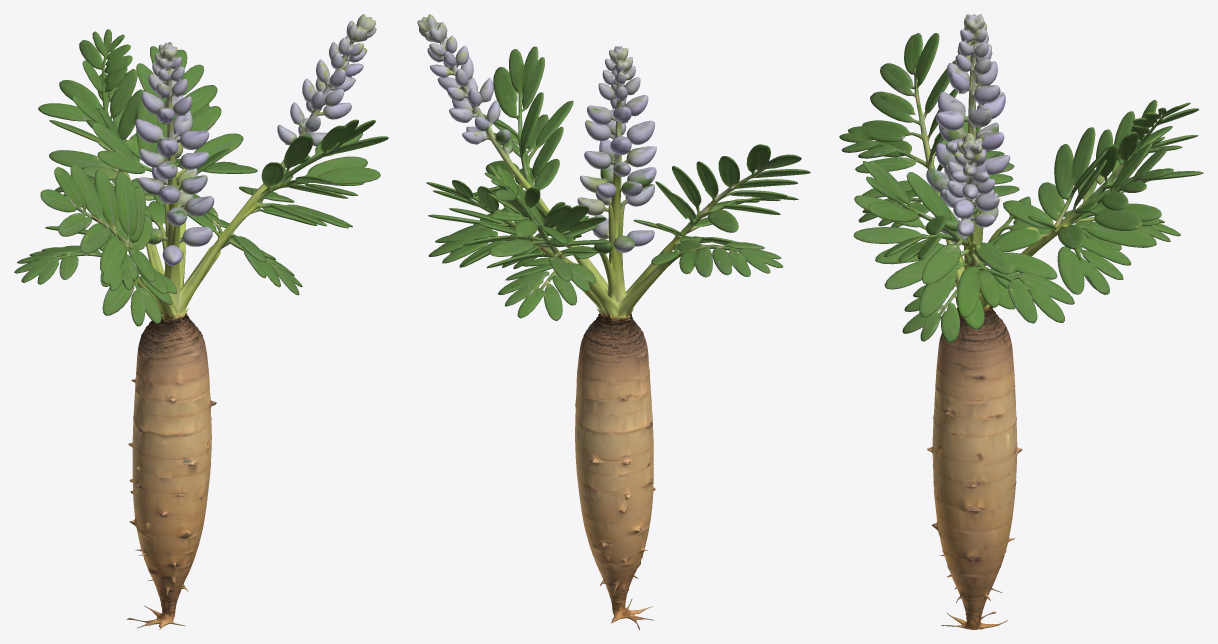
File: gancao.glb
3 views of the same model, side by side, from view 1: azimuth 30°, elevation 25°; view 2: azimuth 150°, elevation 25°; view 3: azimuth 270°, elevation 25° (orthographic). The views are drawn at different scales.
Parts seen in each view (by area): view 1: node_0; view 2: node_0; view 3: node_0.
Boxes of the visible parts, box(x1,y1,x2,y2) form: node_0: box(14, 14, 388, 629); node_0: box(417, 14, 810, 629); node_0: box(839, 14, 1203, 629).
Bounding box in the file's own units: 0.6952 × 1.06 × 0.5685.
1 material, 1 textured.
